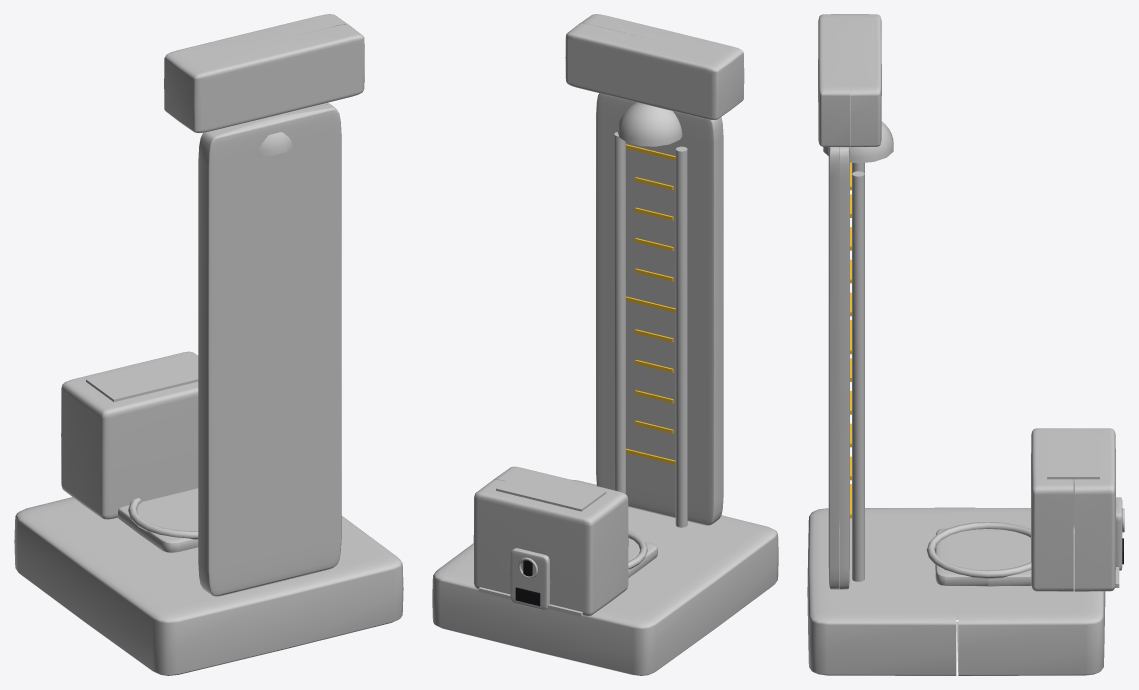
Rendered from game_hammer.fbx.
3 renders of one model, left to right at view 1: azimuth 30°, elevation 25°; view 2: azimuth 150°, elevation 25°; view 3: azimuth 270°, elevation 25°, orthographic. The views are drawn at different scales.
Parts seen in each view (by area): view 1: game_hammer; view 2: game_hammer; view 3: game_hammer.
Part boxes in pixels (x1,y1,x2,y2): game_hammer: (14,14,403,675); game_hammer: (432,14,778,675); game_hammer: (807,14,1124,675).
Size of the model in its own units: 1.3 by 2.95 by 1.49.
